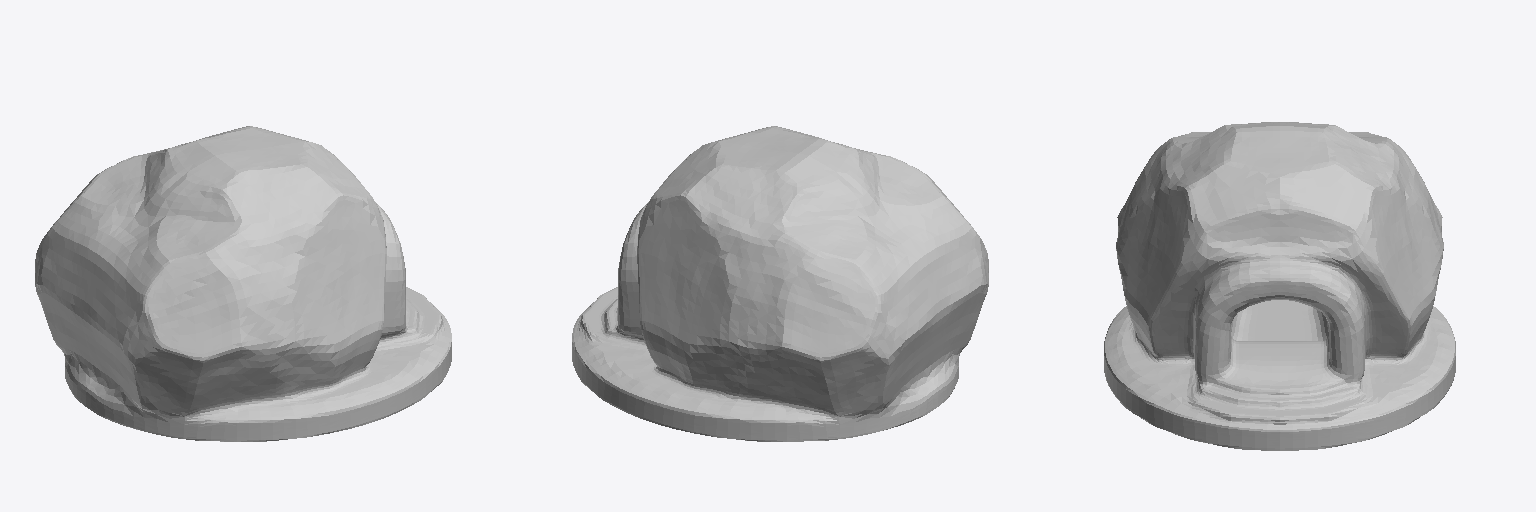
The model's file is WongleBase.OBJ.
3 views of the same model, side by side, from view 1: azimuth 30°, elevation 25°; view 2: azimuth 150°, elevation 25°; view 3: azimuth 270°, elevation 25° (orthographic).
Parts seen in each view (by area): view 1: Group39199; view 2: Group39199; view 3: Group39199.
Part boxes in pixels (x1,y1,x2,y2): Group39199: (35, 126, 451, 441); Group39199: (572, 126, 988, 441); Group39199: (1104, 122, 1455, 450).
Size of the model in its own units: 9.83 by 5.92 by 8.56.